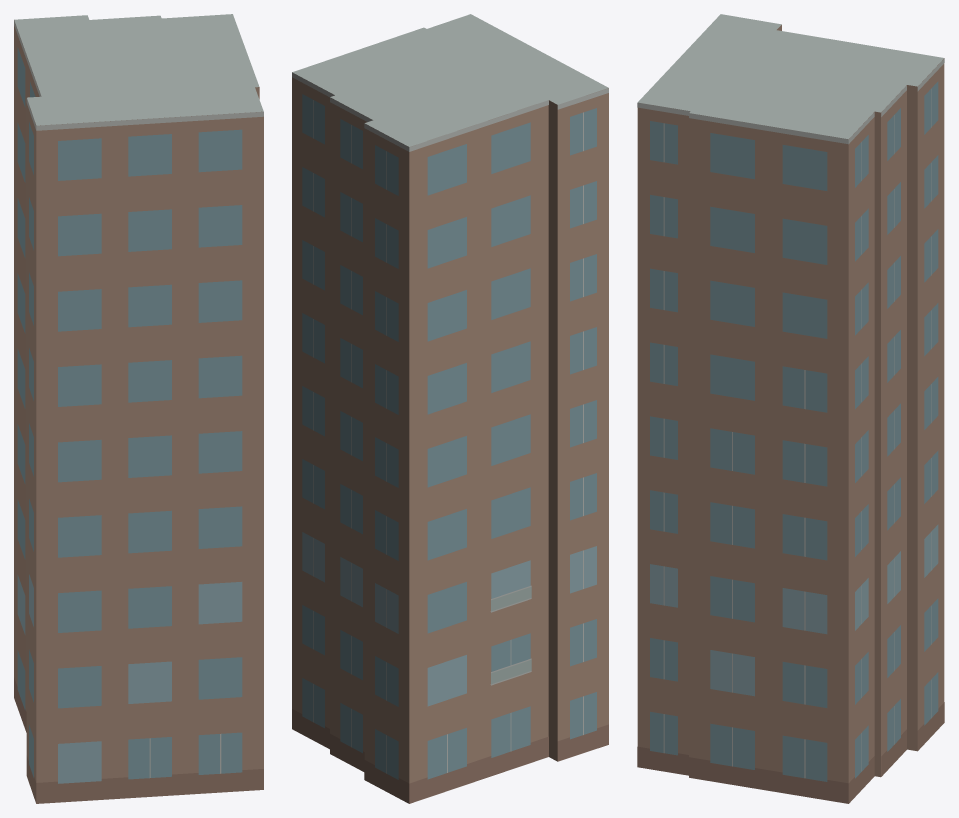
Rendered from survey-upis-32733553.glb.
3 renders of one model, left to right at view 1: azimuth 30°, elevation 25°; view 2: azimuth 150°, elevation 25°; view 3: azimuth 270°, elevation 25°, orthographic. The views are drawn at different scales.
Parts seen in each view (by area): view 1: survey-upis-32733553.tmp; view 2: survey-upis-32733553.tmp; view 3: survey-upis-32733553.tmp.
Part boxes in pixels (<box>): survey-upis-32733553.tmp: <box>14,14,263,803</box>; survey-upis-32733553.tmp: <box>292,14,608,803</box>; survey-upis-32733553.tmp: <box>637,14,944,803</box>.
Bounding box in the file's own units: 13.02 × 32.2 × 13.49.
